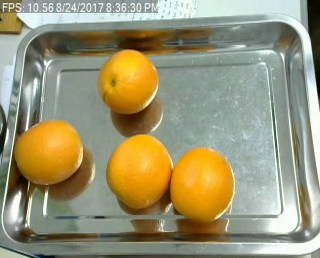Orange: (105, 134, 172, 209), (169, 146, 235, 222), (15, 117, 83, 185), (97, 48, 159, 114)
